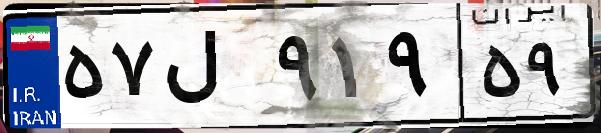1: (330, 28, 385, 110)
5: (57, 26, 110, 100), (475, 38, 525, 113)
7: (110, 28, 158, 98)
9: (270, 28, 330, 110), (385, 28, 445, 110), (525, 38, 570, 115)
ل: (158, 20, 270, 120)
